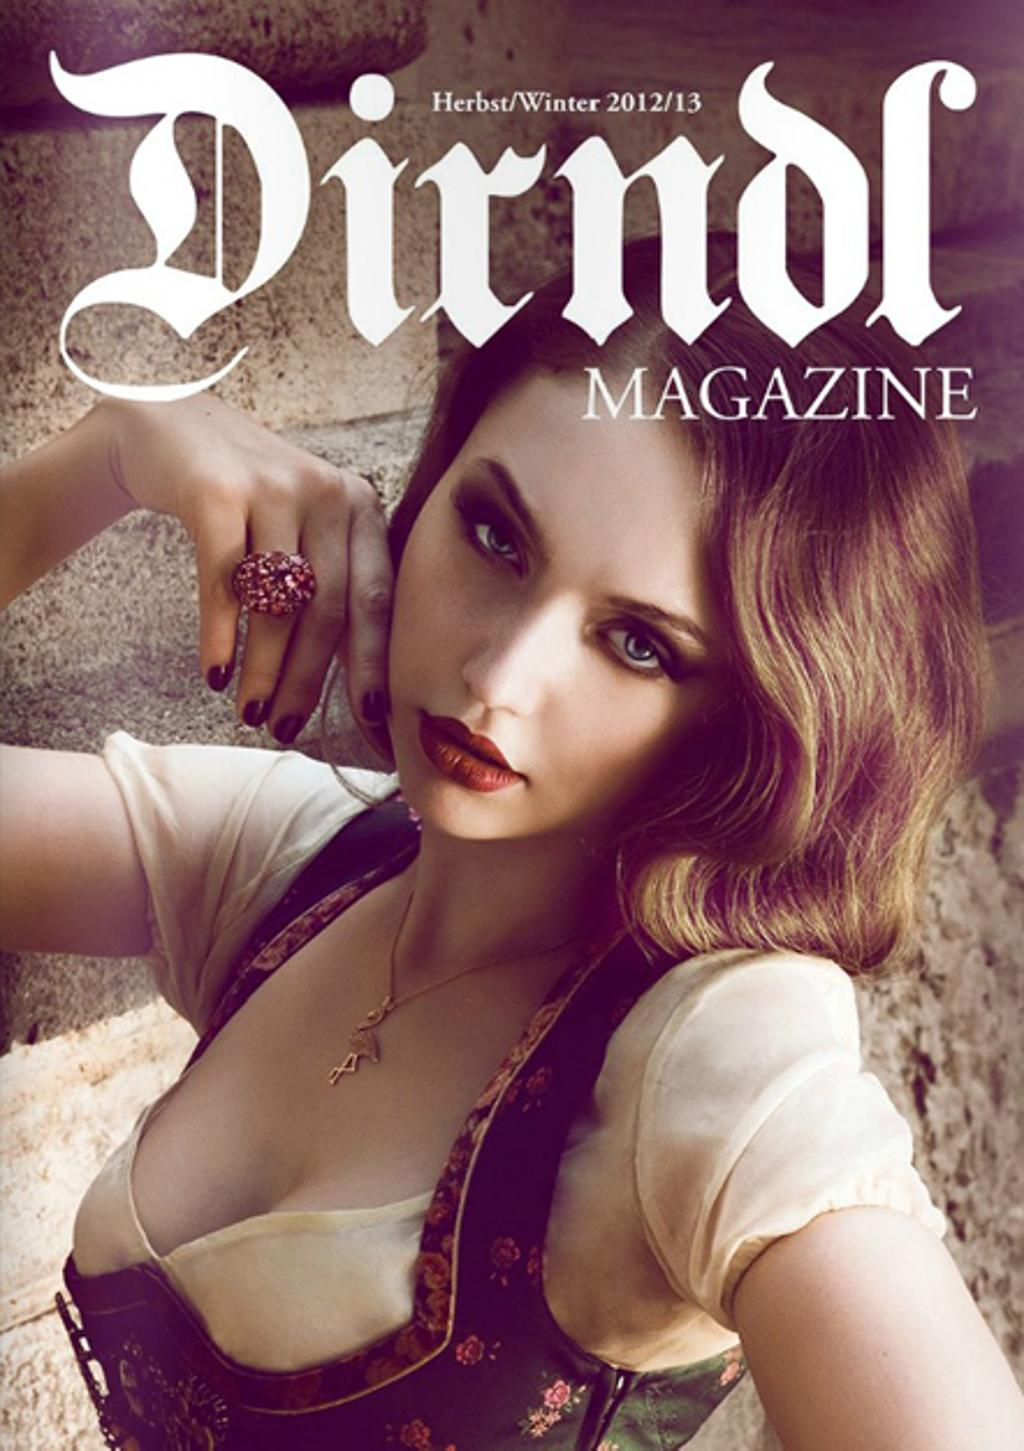face: (390, 376, 749, 829)
